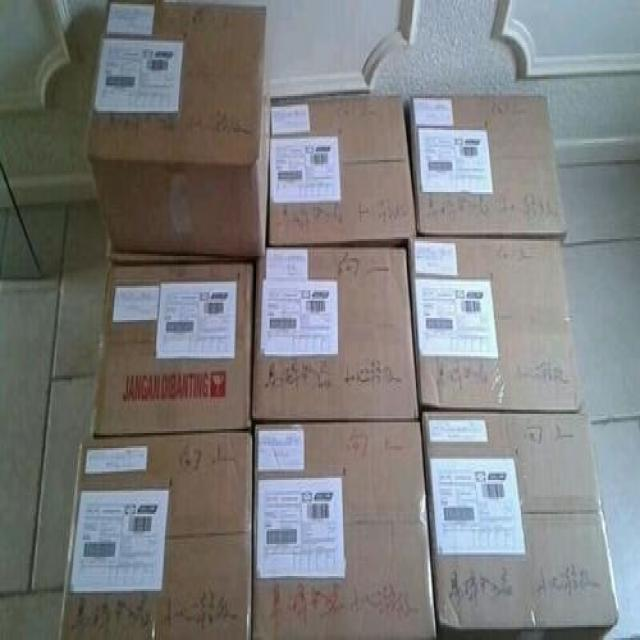Carton: (86, 0, 416, 416), (58, 425, 434, 638), (407, 98, 577, 410), (421, 410, 617, 623), (91, 265, 250, 431), (269, 94, 410, 237)
